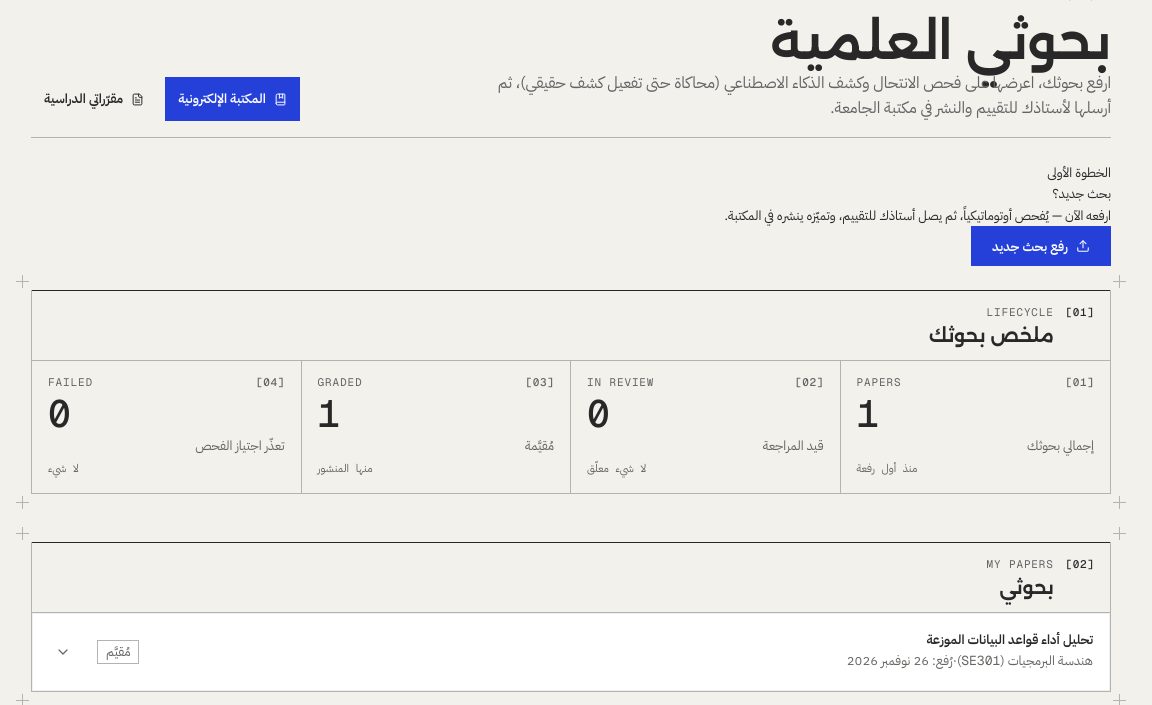
Scenario: StudentResearchPage — reviewer identity (R305-A7 regression) › a GRADED paper shows «تقييم الأستاذ» with the reviewer the API sent
What coordinates should you click on to do the following:
click the button named "تفاصيل البحث: تحليل أداء قواعد البيانات الموزعة"
I would click on:
 (63, 652)
Its box is [41,630,85,674].
(page scrolled)
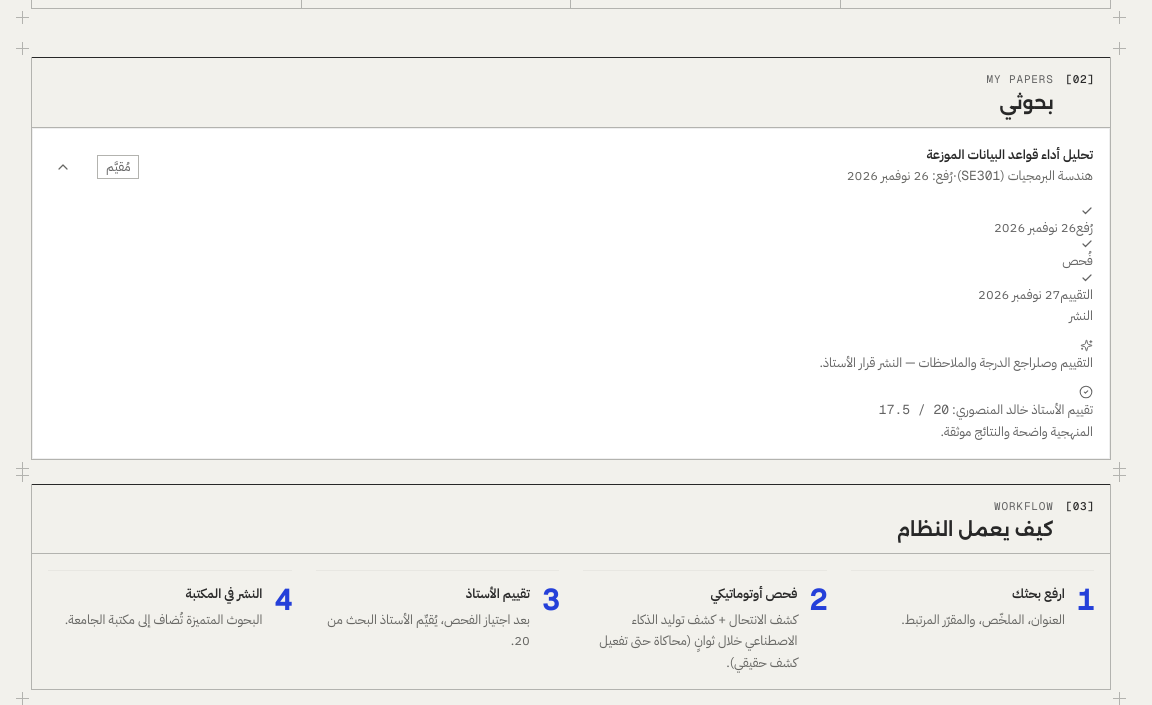
Now the element with class "rs-row-grade-head" shows "تقييم الأستاذ", box [1028,400,1093,419]
Now the element with class "rs-row-grade-head" shows "خالد المنصوري", box [879,385,1093,419]
Now the text "المنهجية واضحة والنتائج موثقة." is shown, box [940,422,1093,440]
